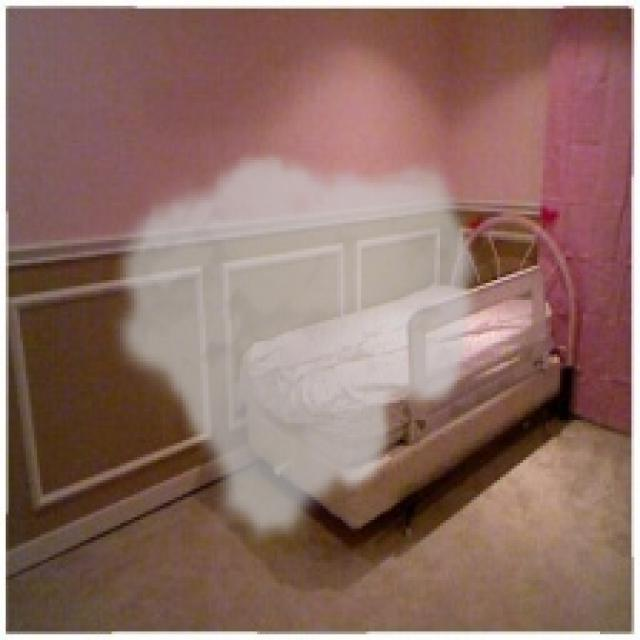Smoke: (106, 148, 483, 548)
